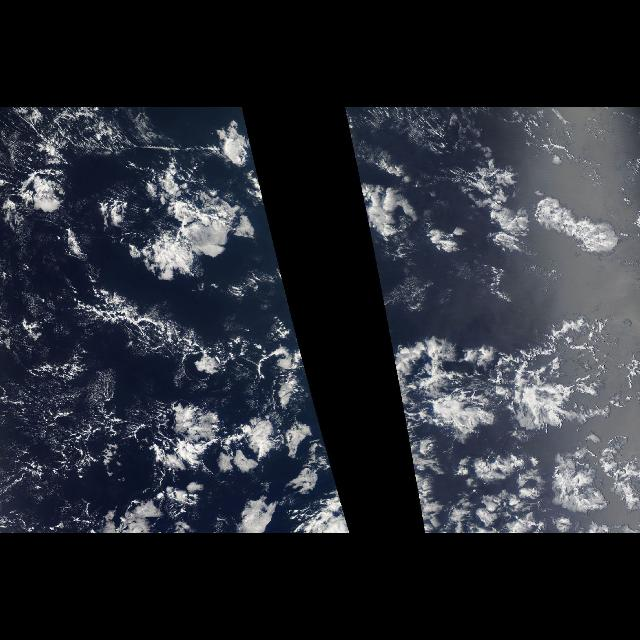Flower: (2, 110, 350, 530), (344, 110, 636, 530)
Gravel: (8, 300, 274, 530)
